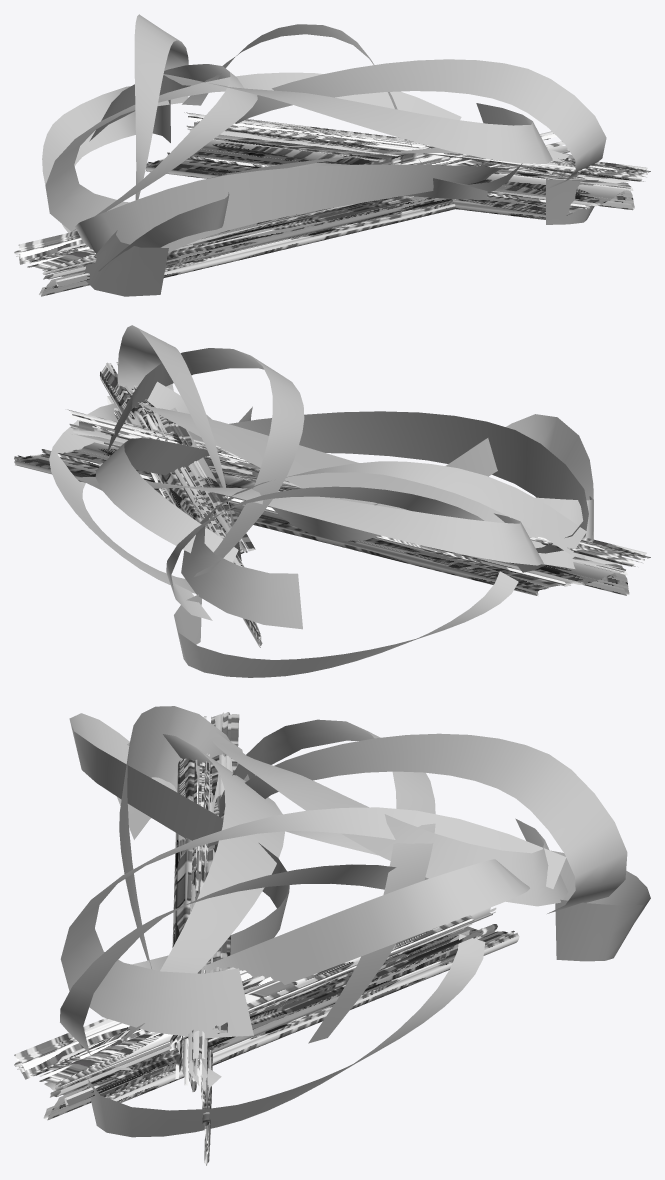
Rendered from FxR3LuxiyaAttack13.fbx.
The picture shows the model from 3 angles, top to bottom: view 1: azimuth 30°, elevation 25°; view 2: azimuth 150°, elevation 25°; view 3: azimuth 270°, elevation 25°; orthographic projection. The views are drawn at different scales.
Visible parts, largest first — view 1: canying, Piaodai01 (1), Piaodai03, Piaodai02, Piaodai02 (1), Piaodai02 (2), Piaodai01 (2), Piaodai03 (1), Piaodai01 (3), Piaodai05, Piaodai04, Piaodai01; view 2: canying, Piaodai01 (1), Piaodai02 (2), Piaodai02 (1), Piaodai01 (2), Piaodai04, Piaodai02, Piaodai01 (3), Piaodai05, Piaodai03, Piaodai03 (1), Piaodai01; view 3: canying, Piaodai02, Piaodai03 (1), Piaodai04, Piaodai01 (2), Piaodai02 (2), Piaodai05, Piaodai02 (1), Piaodai01, Piaodai01 (1), Piaodai01 (3), Piaodai03.
Part boxes in pixels (<box>): canying: <box>14,112,650,296</box>; Piaodai01 (1): <box>75,164,510,253</box>; Piaodai03: <box>235,59,606,189</box>; Piaodai02: <box>163,74,552,163</box>; Piaodai02 (1): <box>45,72,461,250</box>; Piaodai02 (2): <box>70,64,257,232</box>; Piaodai01 (2): <box>78,148,569,296</box>; Piaodai03 (1): <box>134,14,188,199</box>; Piaodai01 (3): <box>42,86,170,232</box>; Piaodai05: <box>98,163,487,271</box>; Piaodai04: <box>182,24,522,192</box>; Piaodai01: <box>546,153,598,224</box>; canying: <box>14,362,650,647</box>; Piaodai01 (1): <box>98,411,588,572</box>; Piaodai02 (2): <box>181,461,586,629</box>; Piaodai02 (1): <box>75,477,543,565</box>; Piaodai01 (2): <box>127,397,593,568</box>; Piaodai04: <box>95,381,238,562</box>; Piaodai02: <box>107,348,304,576</box>; Piaodai01 (3): <box>174,571,518,677</box>; Piaodai05: <box>239,406,593,540</box>; Piaodai03: <box>117,325,241,560</box>; Piaodai03 (1): <box>166,486,484,620</box>; Piaodai01: <box>49,403,195,593</box>; canying: <box>14,712,519,1165</box>; Piaodai02: <box>60,807,566,1038</box>; Piaodai03 (1): <box>245,733,627,913</box>; Piaodai04: <box>201,859,529,992</box>; Piaodai01 (2): <box>117,734,284,1042</box>; Piaodai02 (2): <box>209,729,567,906</box>; Piaodai05: <box>69,713,289,971</box>; Piaodai02 (1): <box>219,719,435,1043</box>; Piaodai01: <box>87,934,485,1137</box>; Piaodai01 (1): <box>119,706,249,1090</box>; Piaodai01 (3): <box>286,830,650,961</box>; Piaodai03: <box>60,864,428,1070</box>.
Bounding box in the file's own units: 11.61 × 2.87 × 8.21.
